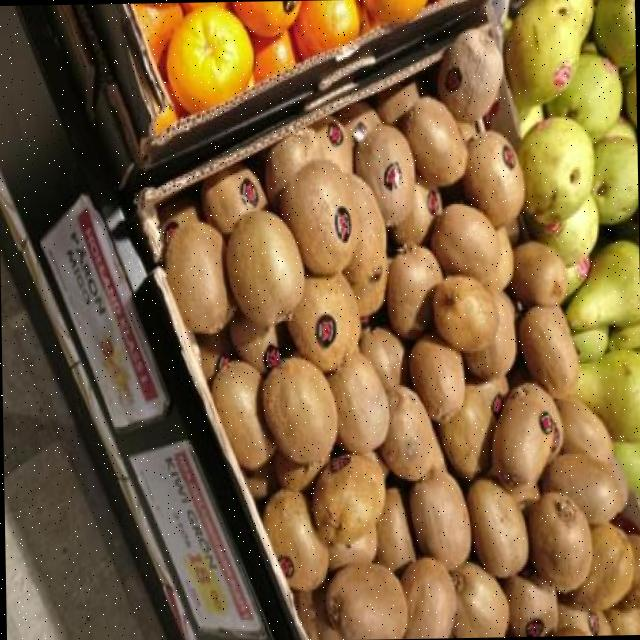kiwi: (278, 160, 357, 275), (225, 211, 303, 324), (261, 357, 337, 465), (165, 220, 234, 332), (491, 383, 561, 487), (287, 273, 359, 370), (211, 360, 274, 469), (438, 381, 506, 479), (527, 493, 592, 592), (342, 174, 387, 316), (312, 454, 383, 543), (262, 492, 326, 590), (325, 564, 407, 640), (379, 385, 444, 480), (354, 124, 414, 225), (327, 351, 386, 453), (462, 130, 524, 227), (437, 30, 502, 121), (466, 479, 526, 577), (408, 470, 467, 569), (567, 523, 633, 610), (541, 454, 622, 524), (401, 98, 465, 186), (517, 306, 577, 397), (429, 204, 498, 281), (385, 248, 441, 338), (408, 333, 464, 423), (432, 276, 498, 351), (463, 294, 516, 381), (400, 558, 455, 639), (200, 166, 265, 233), (450, 562, 507, 638), (264, 129, 320, 206), (556, 397, 611, 461), (509, 245, 566, 306), (375, 487, 414, 570), (502, 575, 555, 636), (390, 182, 441, 245), (229, 313, 279, 373), (359, 327, 405, 387), (312, 116, 351, 172), (481, 227, 513, 294), (616, 536, 640, 610), (557, 603, 612, 635)
